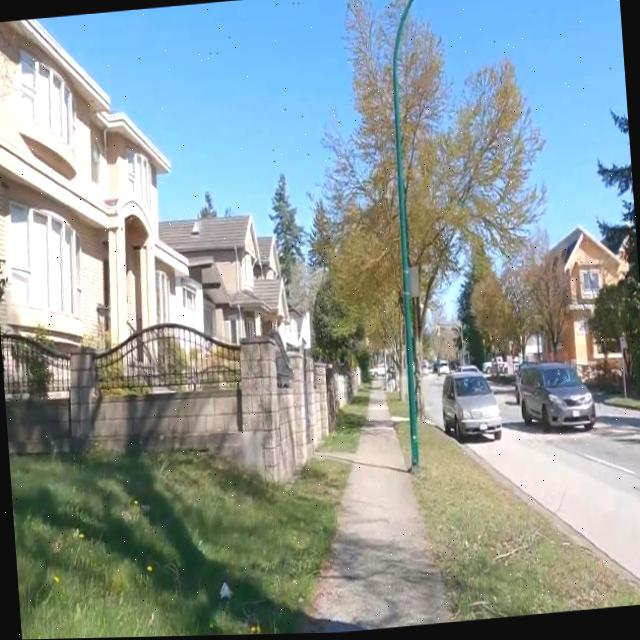Automobile: (518, 365, 592, 432), (441, 373, 501, 442)
Road: (467, 397, 640, 583), (421, 372, 438, 423)
Sidewalk: (304, 391, 452, 635)
